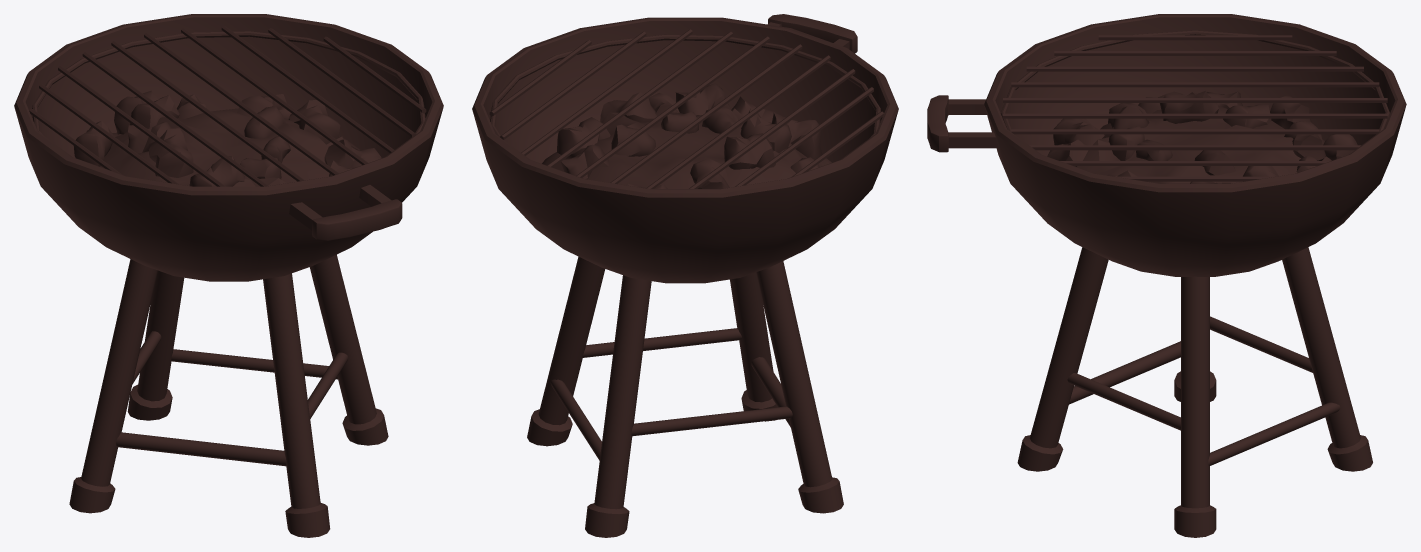
File: ParkBBQ.fbx
The picture shows the model from 3 angles, left to right: view 1: azimuth 30°, elevation 25°; view 2: azimuth 150°, elevation 25°; view 3: azimuth 270°, elevation 25°; orthographic projection.
Visible parts, largest first — view 1: ParkBBQ; view 2: ParkBBQ; view 3: ParkBBQ.
Boxes of the visible parts, box(x1,y1,x2,y2) form: ParkBBQ: box(14, 14, 443, 537); ParkBBQ: box(472, 14, 898, 537); ParkBBQ: box(927, 14, 1406, 537).
Size of the model in its own units: 223 by 215 by 257.
